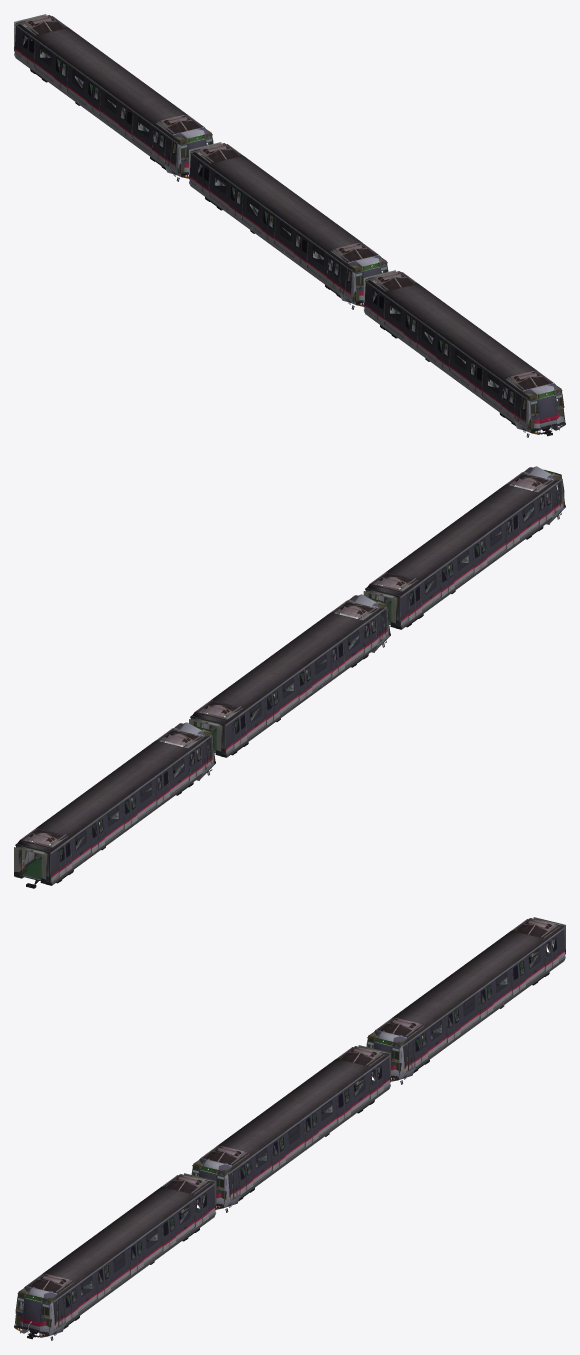
Rendered from train_sf.glb.
The picture shows the model from 3 angles, top to bottom: view 1: azimuth 30°, elevation 25°; view 2: azimuth 150°, elevation 25°; view 3: azimuth 330°, elevation 25°; orthographic projection.
Visible parts, largest first — view 1: Object_263 (×3), Object_261 (×3), Object_52 (×3), Object_38; view 2: Object_263 (×3), Object_261 (×3), Object_52 (×3), Object_266 (×3); view 3: Object_263 (×3), Object_261 (×3), Object_52 (×3), Object_38.
Boxes of the visible parts, x1,y1,x2,y2 form: Object_263 (×3): [14, 15, 565, 434]; Object_261 (×3): [14, 15, 562, 437]; Object_52 (×3): [21, 31, 515, 420]; Object_38: [522, 395, 559, 426]; Object_263 (×3): [16, 466, 565, 883]; Object_261 (×3): [15, 472, 563, 888]; Object_52 (×3): [24, 488, 552, 877]; Object_266 (×3): [14, 484, 554, 883]; Object_263 (×3): [14, 918, 565, 1337]; Object_261 (×3): [17, 918, 565, 1340]; Object_52 (×3): [64, 934, 558, 1322]; Object_38: [20, 1298, 58, 1329].
Size of the model in its own units: 2.64 by 3.19 by 62.1.
Materials: 18 (17 with a texture image).
